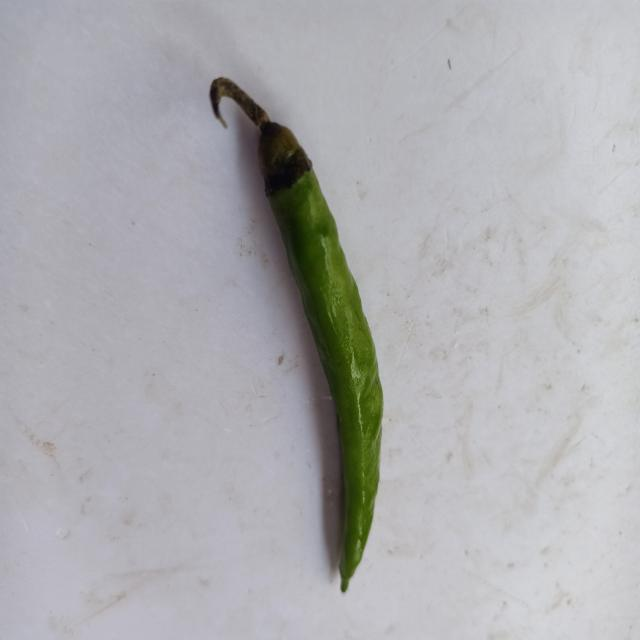Green Chilly: (210, 76, 383, 592)
